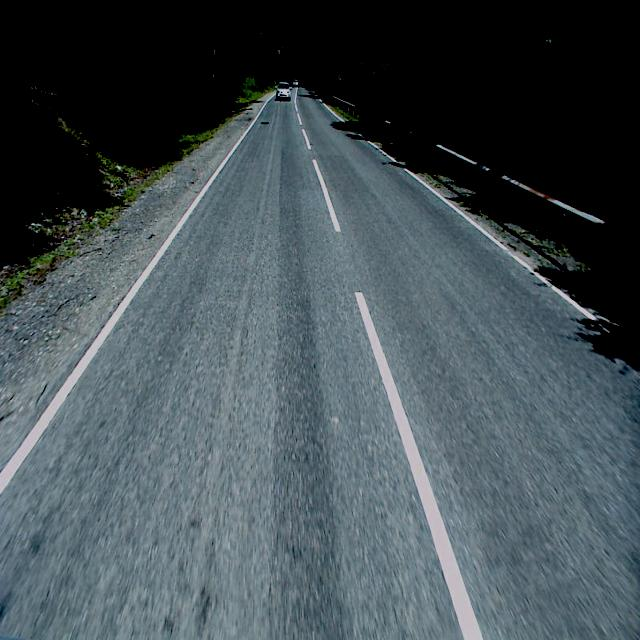road: (0, 84, 640, 639)
